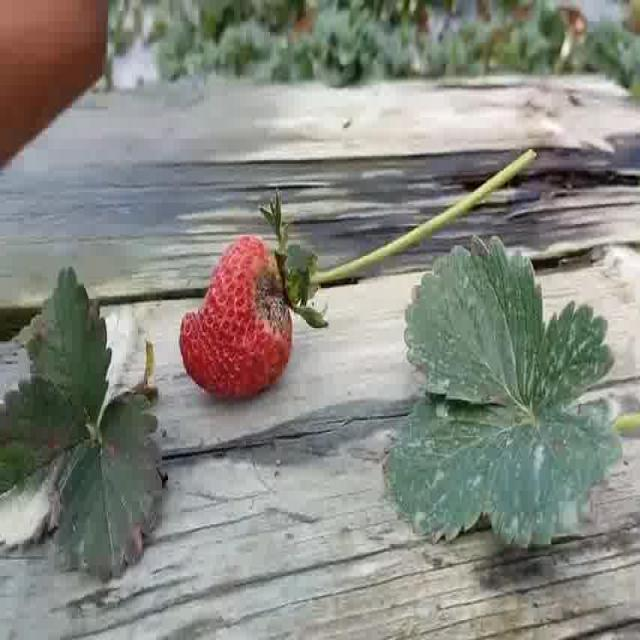Mancha negra Antracnosis: (171, 228, 301, 404)
